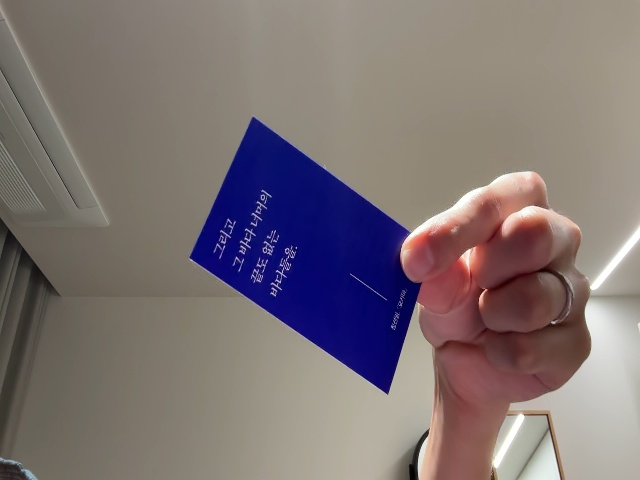card: (188, 116, 426, 395)
